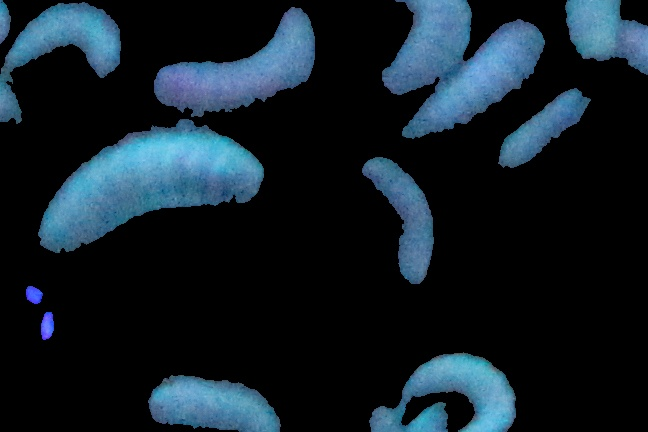larvae: (35, 121, 266, 255), (140, 7, 331, 116), (398, 24, 549, 143), (6, 1, 130, 100), (353, 1, 464, 97), (398, 350, 527, 432), (362, 156, 438, 284), (498, 89, 602, 179), (146, 371, 284, 432), (560, 1, 625, 63)
